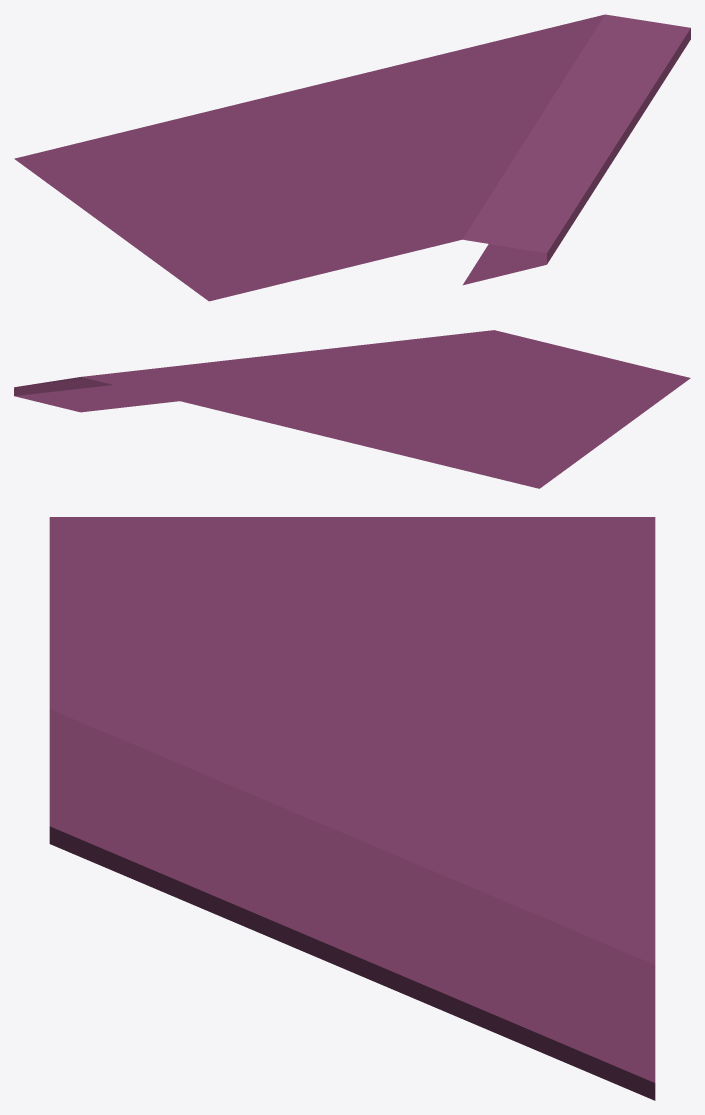
The model's file is Roof_45_Extension.fbx.
3 renders of one model, top to bottom at view 1: azimuth 30°, elevation 25°; view 2: azimuth 150°, elevation 25°; view 3: azimuth 270°, elevation 25°, orthographic. The views are drawn at different scales.
Visible parts, largest first — view 1: Roof_45_Extension; view 2: Roof_45_Extension; view 3: Roof_45_Extension.
Boxes of the visible parts, <box> form: Roof_45_Extension: <box>14,14,690,301</box>; Roof_45_Extension: <box>14,330,690,488</box>; Roof_45_Extension: <box>49,517,655,1100</box>.
Bounding box in the file's own units: 8.02 × 0.5174 × 4.
